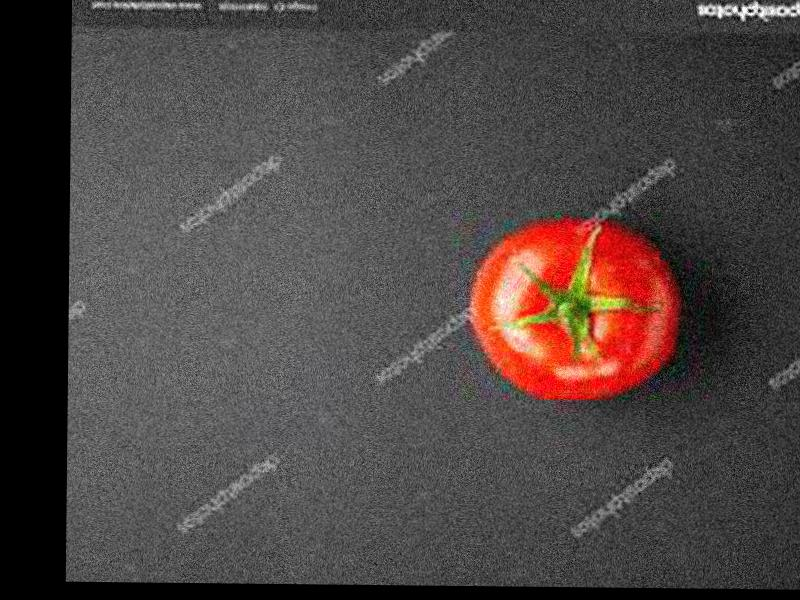Tomato: (465, 216, 679, 403)
